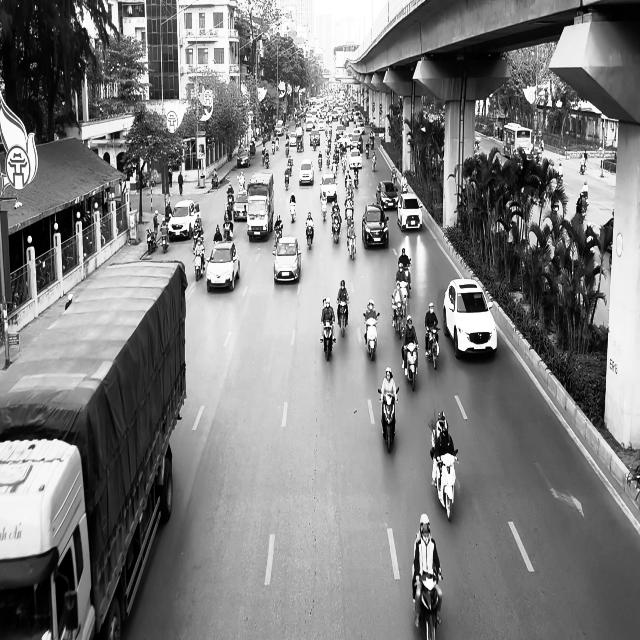car: (443, 277, 497, 360), (206, 241, 240, 292), (272, 236, 302, 284), (168, 199, 200, 241), (361, 203, 389, 249), (397, 193, 423, 232), (376, 180, 399, 209), (319, 173, 337, 202), (233, 191, 248, 221), (298, 158, 314, 185), (237, 147, 250, 168)
motorbike: (414, 571, 443, 639), (433, 449, 458, 522), (377, 386, 399, 453), (402, 343, 419, 391), (363, 312, 379, 361), (425, 326, 440, 370), (321, 319, 334, 361), (336, 296, 349, 336), (305, 222, 314, 249), (289, 200, 296, 222)
truck: (0, 259, 187, 639)
